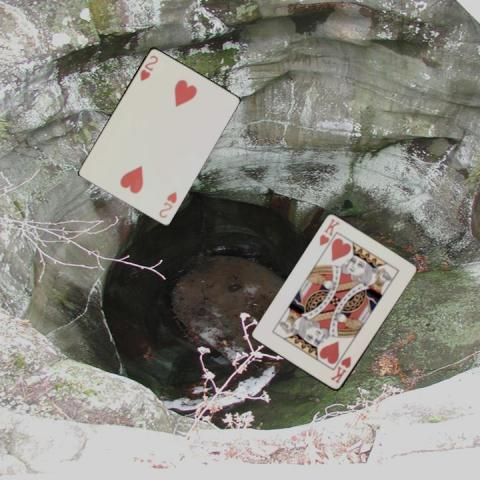2h: (137, 52, 159, 82), (156, 189, 178, 219)
Kh: (327, 353, 353, 385), (316, 216, 341, 247)
